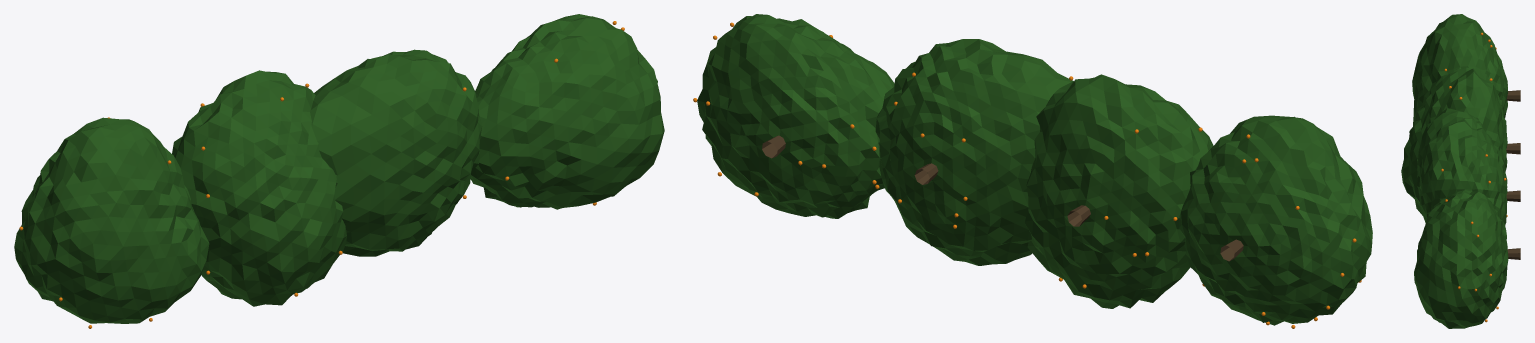
File: citrus_run4_c_fruit.obj
The picture shows the model from 3 angles, left to right: view 1: azimuth 30°, elevation 25°; view 2: azimuth 150°, elevation 25°; view 3: azimuth 270°, elevation 25°; orthographic projection. The views are drawn at different scales.
Parts seen in each view (by area): view 1: canopy; view 2: canopy, trunk, fruit; view 3: canopy, trunk, fruit.
Boxes of the visible parts, left/top/right/bottom form: canopy: left=14, top=14, right=664, bottom=323; canopy: left=697, top=14, right=1372, bottom=325; trunk: left=762, top=135, right=1243, bottom=261; fruit: left=693, top=22, right=1361, bottom=328; canopy: left=1401, top=14, right=1508, bottom=328; trunk: left=1506, top=90, right=1520, bottom=259; fruit: left=1441, top=32, right=1507, bottom=322.
Size of the model in its own units: 13.05 by 4.44 by 2.98.
